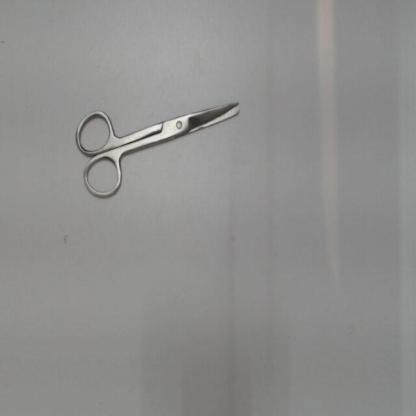Dressing Scissors: (65, 89, 252, 209)
